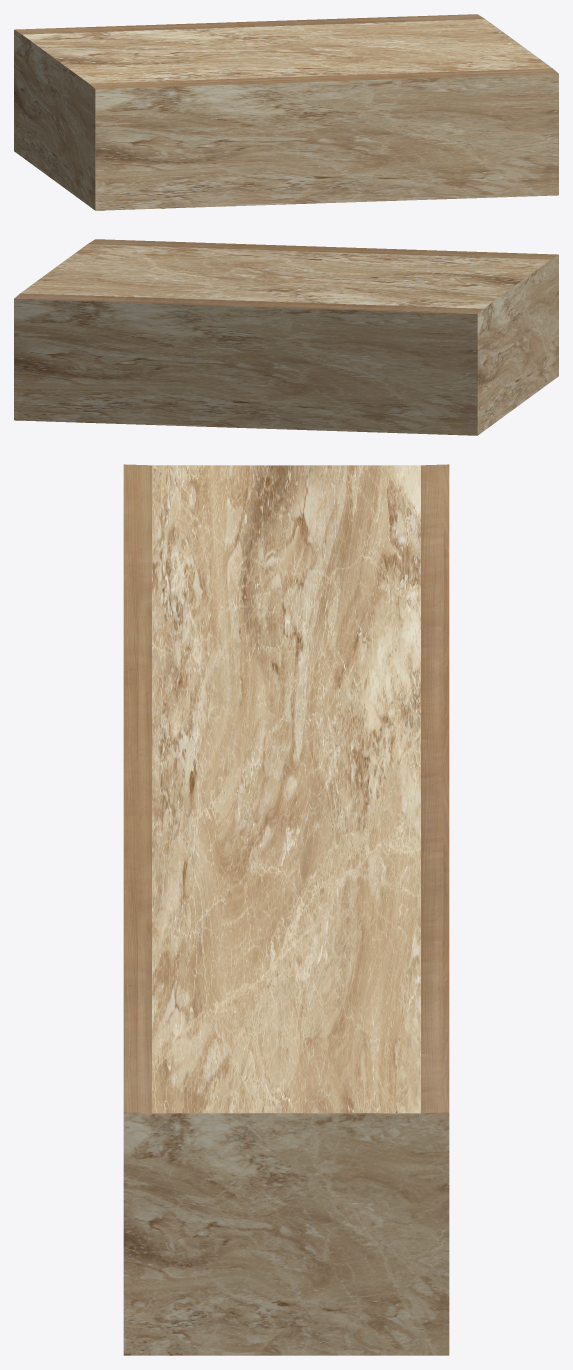
File: bar3.FBX
3 renders of one model, top to bottom at view 1: azimuth 30°, elevation 25°; view 2: azimuth 150°, elevation 25°; view 3: azimuth 270°, elevation 25°, orthographic. The views are drawn at different scales.
Parts seen in each view (by area): view 1: Box001; view 2: Box001; view 3: Box001.
Boxes of the visible parts, left/top/right/bottom form: Box001: left=14, top=14, right=558, bottom=210; Box001: left=14, top=239, right=558, bottom=435; Box001: left=123, top=464, right=449, bottom=1355.
Size of the model in its own units: 87.17 by 39.34 by 26.48.
2 materials, 2 textured.
